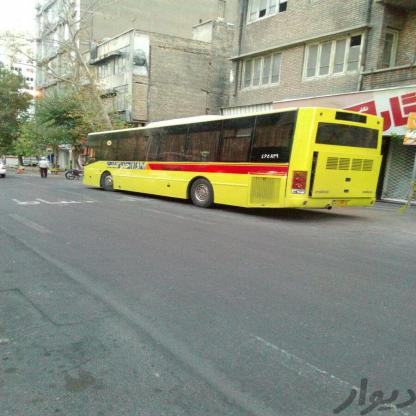Bus: (79, 82, 386, 219)
